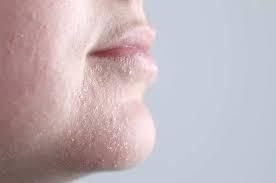Dry-Skin: (20, 30, 39, 49), (86, 101, 98, 127), (78, 134, 100, 147), (90, 85, 115, 94), (109, 140, 120, 156)
